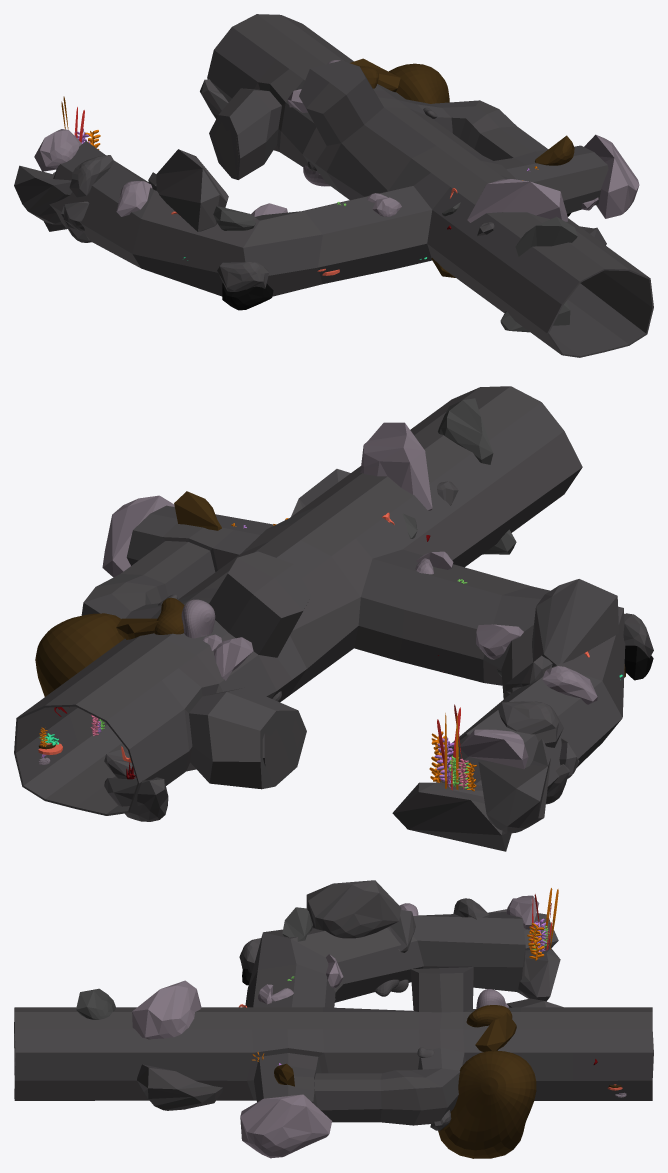
File: GRUTAS (3).fbx
3 renders of one model, top to bottom at view 1: azimuth 30°, elevation 25°; view 2: azimuth 150°, elevation 25°; view 3: azimuth 270°, elevation 25°, orthographic. The views are drawn at different scales.
Visible parts, largest first — view 1: Cylinder, Icosphere.053, Icosphere.010, Icosphere.052, Icosphere.051, Sphere.014, Icosphere.012, Icosphere.050, Icosphere.055, Icosphere.035, Icosphere.037, Icosphere.054 (+6 smaller); view 2: Cylinder, Icosphere.053, Icosphere.049, Icosphere.051, Sphere.014, Icosphere.010, Icosphere.052, Icosphere.012, Icosphere.015, Icosphere.035, Icosphere.050, Icosphere.037 (+10 smaller); view 3: Cylinder, Sphere.014, Icosphere.052, Icosphere.053, Icosphere.010, Icosphere.011, Icosphere.049, Icosphere.012, Icosphere.004, Icosphere.027, Icosphere.038, Icosphere.050 (+5 smaller).
Boxes of the visible parts, bbox=[...] form: Cylinder: bbox=[49, 14, 653, 357]; Icosphere.053: bbox=[156, 149, 228, 231]; Icosphere.010: bbox=[467, 179, 568, 222]; Icosphere.052: bbox=[584, 134, 639, 218]; Icosphere.051: bbox=[14, 165, 72, 224]; Sphere.014: bbox=[389, 63, 449, 103]; Icosphere.012: bbox=[515, 216, 577, 256]; Icosphere.050: bbox=[34, 129, 81, 171]; Icosphere.055: bbox=[217, 262, 268, 291]; Icosphere.035: bbox=[69, 155, 113, 197]; Icosphere.037: bbox=[116, 181, 152, 216]; Icosphere.054: bbox=[222, 283, 273, 310]; Cylinder: bbox=[14, 386, 625, 815]; Icosphere.053: bbox=[532, 579, 618, 666]; Icosphere.049: bbox=[392, 782, 511, 851]; Icosphere.051: bbox=[478, 739, 550, 833]; Sphere.014: bbox=[35, 613, 124, 696]; Icosphere.010: bbox=[360, 422, 432, 510]; Icosphere.052: bbox=[102, 495, 174, 577]; Icosphere.012: bbox=[438, 398, 493, 464]; Icosphere.015: bbox=[104, 776, 168, 821]; Icosphere.035: bbox=[496, 701, 563, 747]; Icosphere.050: bbox=[459, 729, 528, 769]; Icosphere.037: bbox=[542, 666, 597, 704]; Cylinder: bbox=[14, 912, 653, 1125]; Sphere.014: bbox=[438, 1050, 536, 1158]; Icosphere.052: bbox=[240, 1094, 332, 1158]; Icosphere.053: bbox=[306, 880, 401, 938]; Icosphere.010: bbox=[132, 980, 201, 1039]; Icosphere.011: bbox=[137, 1064, 222, 1110]; Icosphere.049: bbox=[517, 946, 560, 1001]; Icosphere.012: bbox=[76, 988, 115, 1019]; Icosphere.004: bbox=[475, 1012, 516, 1051]; Icosphere.027: bbox=[282, 907, 312, 941]; Icosphere.038: bbox=[387, 910, 415, 952]; Icosphere.050: bbox=[506, 895, 539, 929].
Size of the model in its own units: 47807 by 16518 by 60429.
